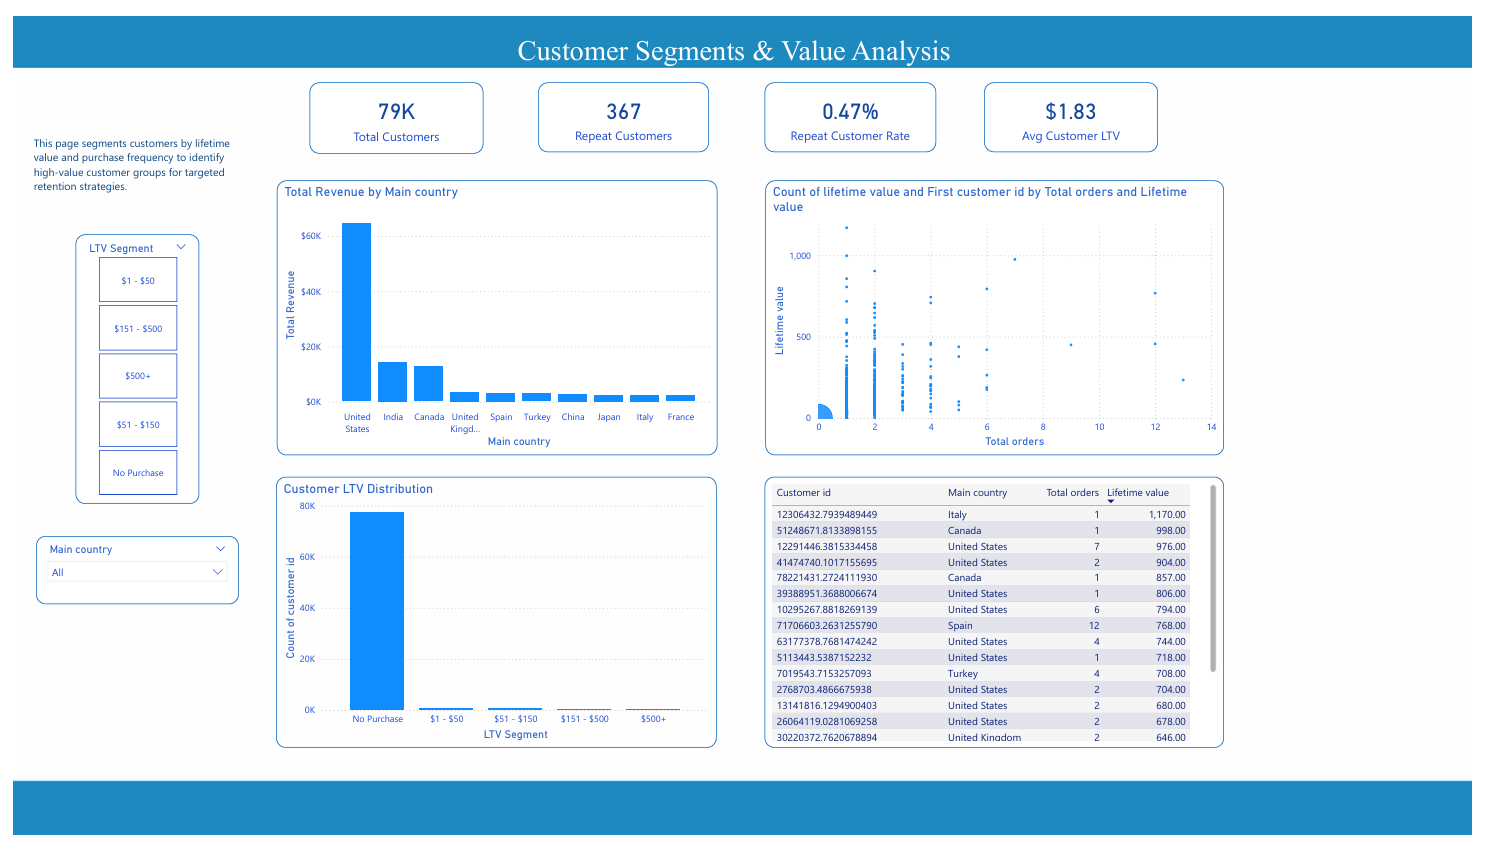

What the dashboard file says about the page in this screenshot:
{"tool":"powerbi","page":{"name":"Customer Segments & Value Analysis","canvas":[1920,1080],"ordinal":2},"visuals":[{"type":"textbox","box":[658.6,17.6,601.5,72.4],"z":0},{"type":"card","fields":{"Values":["_Measures.Total Customers"]},"box":[390.4,86.6,229,93.9],"z":1},{"type":"card","fields":{"Values":["_Measures.Repeat Customers"]},"box":[691.3,86.6,224.6,92.5],"z":2},{"type":"card","fields":{"Values":["_Measures.Repeat Customer Rate"]},"box":[989.3,86.6,226,92.5],"z":3},{"type":"card","fields":{"Values":["_Measures.Avg Customer LTV"]},"box":[1278.4,86.6,229,92.5],"z":4},{"type":"clusteredColumnChart","fields":{"Category":["marts dim_customers.main_country"],"Y":["_Measures.Total Revenue"]},"box":[347,216.4,579.9,361.8],"z":5},{"type":"scatterChart","fields":{"X":["marts dim_customers.total_orders"],"Y":["marts dim_customers.lifetime_value"],"Size":["CountNonNull(marts dim_customers.lifetime_value)"]},"box":[989.7,216.4,604.7,361.8],"z":6},{"type":"tableEx","fields":{"Values":["marts dim_customers.customer_id","marts dim_customers.main_country","marts dim_customers.total_orders","marts dim_customers.lifetime_value"]},"box":[989.3,606.2,604.7,356.7],"z":7},{"type":"slicer","fields":{"Values":["marts dim_customers.main_country"]},"box":[29.9,684.1,267.3,89.8],"z":8},{"type":"textbox","box":[21.7,152.2,285.1,106.3],"z":9},{"type":"clusteredColumnChart","title":"Customer LTV Distribution","fields":{"Category":["marts dim_customers.LTV Segment"],"Y":["CountNonNull(marts dim_customers.customer_id)"]},"box":[346.4,606.2,579.8,356.7],"z":10},{"type":"slicer","fields":{"Values":["marts dim_customers.LTV Segment"]},"box":[81.8,287.2,163.6,355],"z":11}]}

Visuals, with their boxes in screenshot pixels (x1, y1, x2, y2), scaled from the page's 1920x1080 canvas onto the 1488x851 screenshot:
textbox: {"x1": 510, "y1": 14, "x2": 977, "y2": 71}
card - _Measures.Total Customers: {"x1": 303, "y1": 68, "x2": 480, "y2": 142}
card - _Measures.Repeat Customers: {"x1": 536, "y1": 68, "x2": 710, "y2": 141}
card - _Measures.Repeat Customer Rate: {"x1": 767, "y1": 68, "x2": 942, "y2": 141}
card - _Measures.Avg Customer LTV: {"x1": 991, "y1": 68, "x2": 1168, "y2": 141}
clusteredColumnChart - marts dim_customers.main_country x _Measures.Total Revenue: {"x1": 269, "y1": 171, "x2": 718, "y2": 456}
scatterChart - marts dim_customers.total_orders x marts dim_customers.lifetime_value: {"x1": 767, "y1": 171, "x2": 1236, "y2": 456}
tableEx - marts dim_customers.customer_id x marts dim_customers.main_country: {"x1": 767, "y1": 478, "x2": 1235, "y2": 759}
slicer - marts dim_customers.main_country: {"x1": 23, "y1": 539, "x2": 230, "y2": 610}
textbox: {"x1": 17, "y1": 120, "x2": 238, "y2": 204}
"Customer LTV Distribution" clusteredColumnChart: {"x1": 268, "y1": 478, "x2": 718, "y2": 759}
slicer - marts dim_customers.LTV Segment: {"x1": 63, "y1": 226, "x2": 190, "y2": 506}
